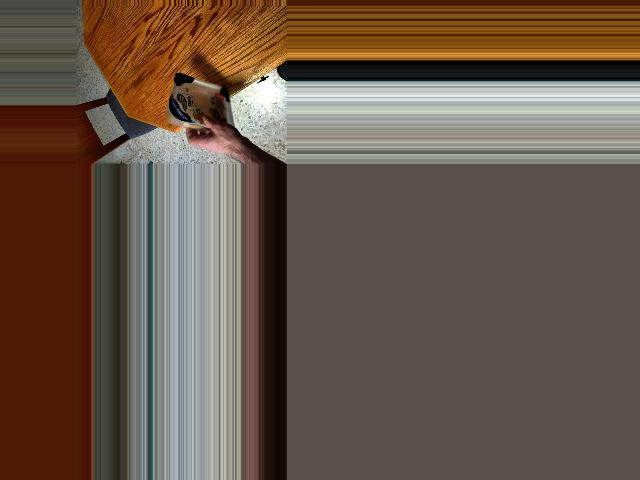cheese: (163, 79, 237, 129)
